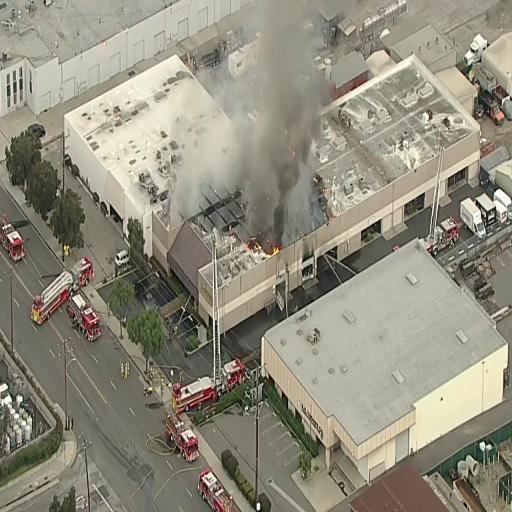smoke: (266, 16, 317, 241)
